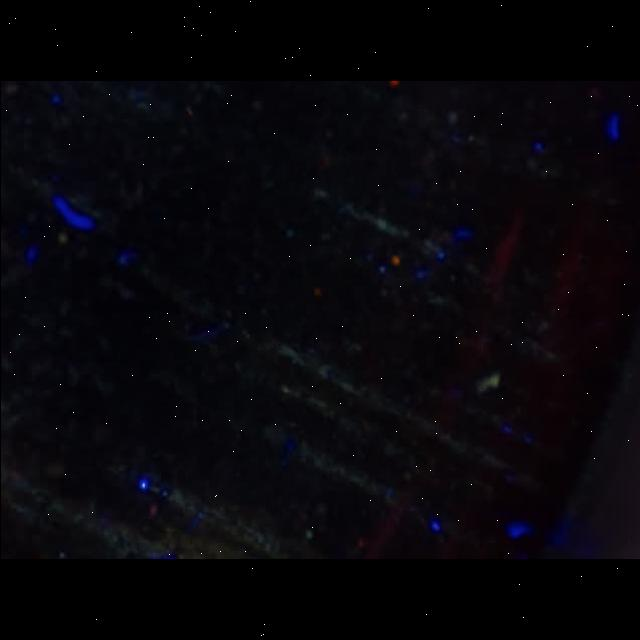microbeads: (475, 372, 503, 394)
